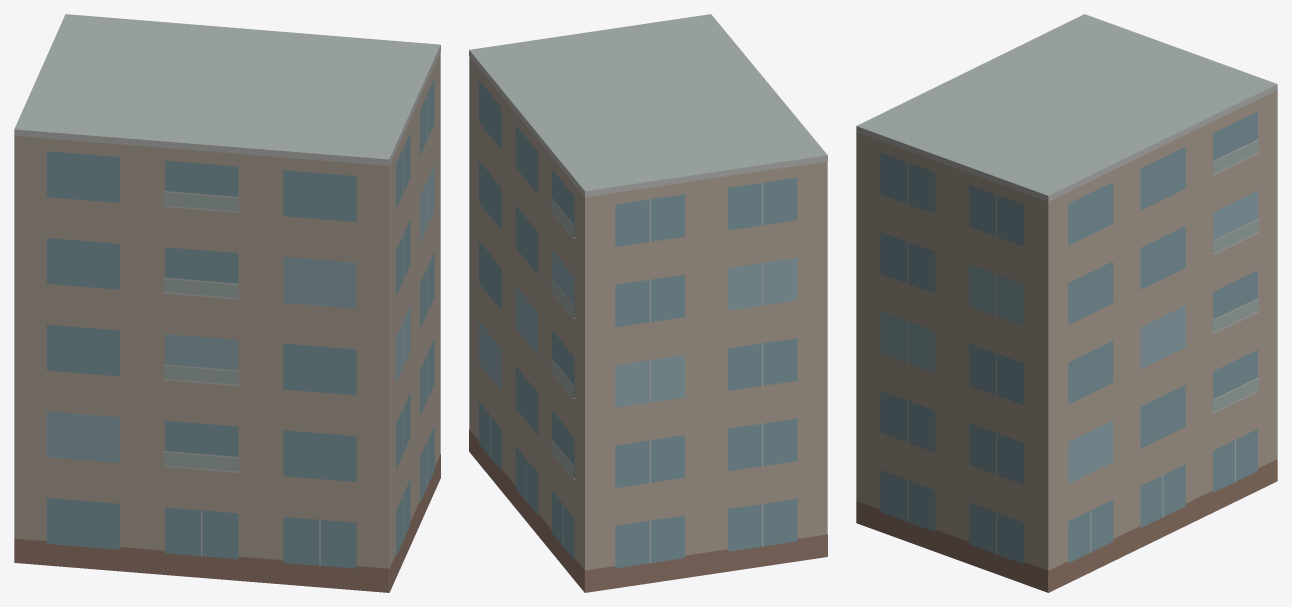
The model's file is survey-upis-32885829.glb.
3 views of the same model, side by side, from view 1: azimuth 30°, elevation 25°; view 2: azimuth 150°, elevation 25°; view 3: azimuth 270°, elevation 25° (orthographic). The views are drawn at different scales.
Visible parts, largest first — view 1: survey-upis-32885829.tmp; view 2: survey-upis-32885829.tmp; view 3: survey-upis-32885829.tmp.
Part boxes in pixels (x1=…): survey-upis-32885829.tmp: x1=14, y1=14, x2=440, y2=592; survey-upis-32885829.tmp: x1=469, y1=14, x2=827, y2=592; survey-upis-32885829.tmp: x1=856, y1=14, x2=1277, y2=592.
Bounding box in the file's own units: 16.02 × 16.3 × 15.69.
